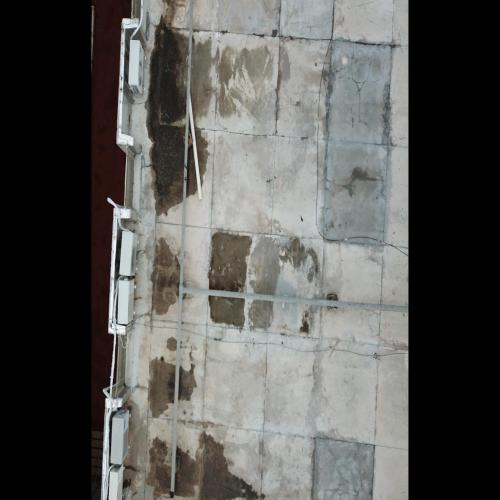conde: (109, 400, 132, 471), (128, 35, 148, 102), (118, 226, 140, 282), (116, 279, 138, 327), (107, 465, 126, 500)
